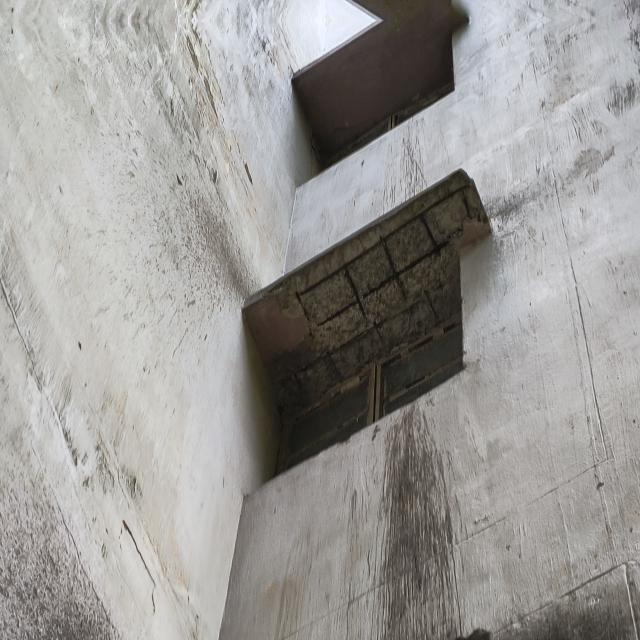Spalling: (261, 171, 489, 471)
